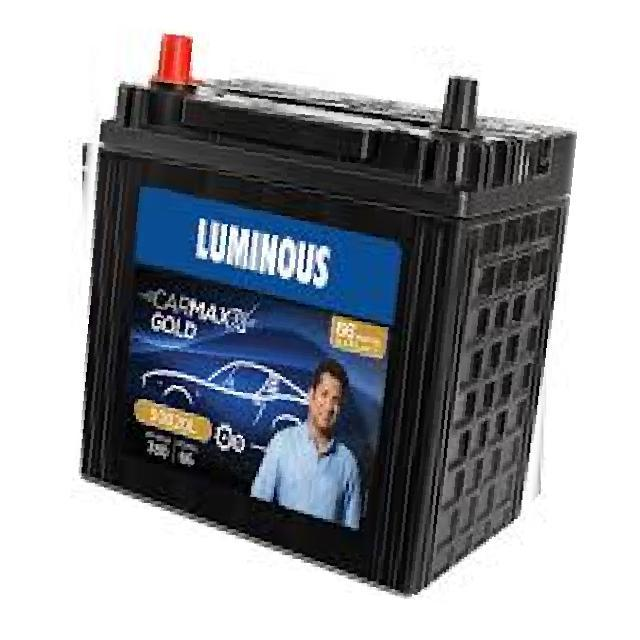Battery: (76, 38, 577, 604)
